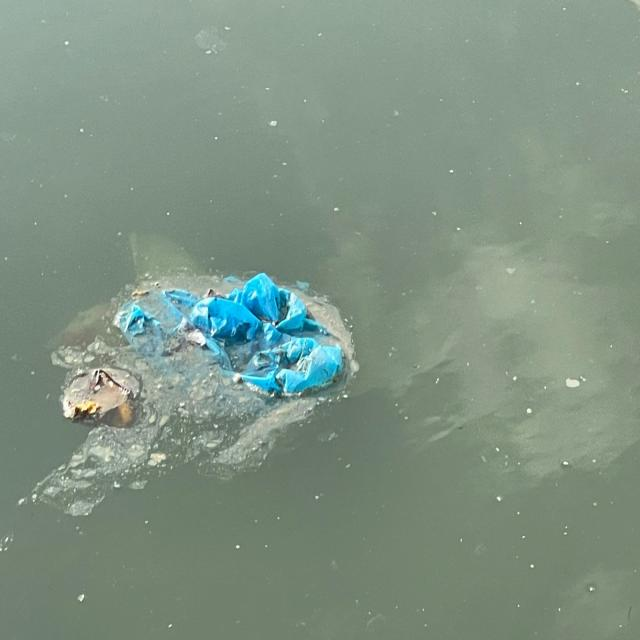Kantong Plastik: (116, 263, 363, 422)
